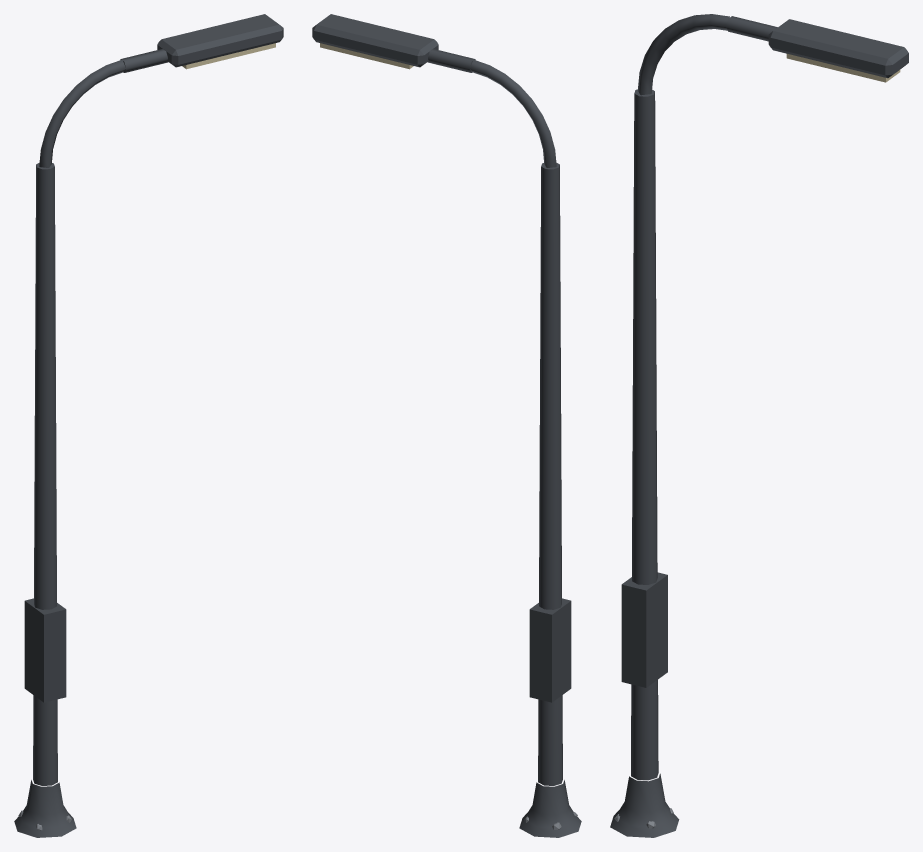
The model's file is led_streetlight_01.glb.
The picture shows the model from 3 angles, left to right: view 1: azimuth 30°, elevation 25°; view 2: azimuth 150°, elevation 25°; view 3: azimuth 330°, elevation 25°; orthographic projection. The views are drawn at different scales.
Parts seen in each view (by area): view 1: led_streetlight_01; view 2: led_streetlight_01; view 3: led_streetlight_01.
Part boxes in pixels (box(x1,y1,x2,y2)): led_streetlight_01: box(14, 14, 283, 837); led_streetlight_01: box(312, 14, 581, 837); led_streetlight_01: box(610, 14, 908, 837).
Size of the model in its own units: 1.85 by 5.12 by 0.4.
